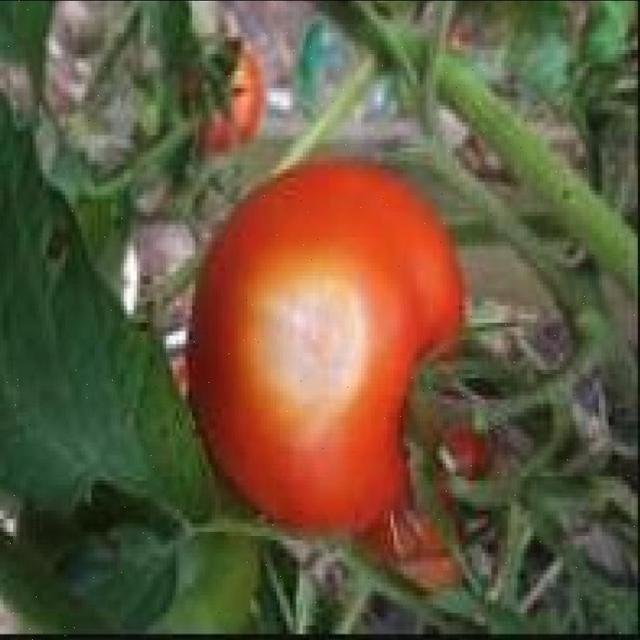Sunscald Fruit: (160, 159, 262, 282)
